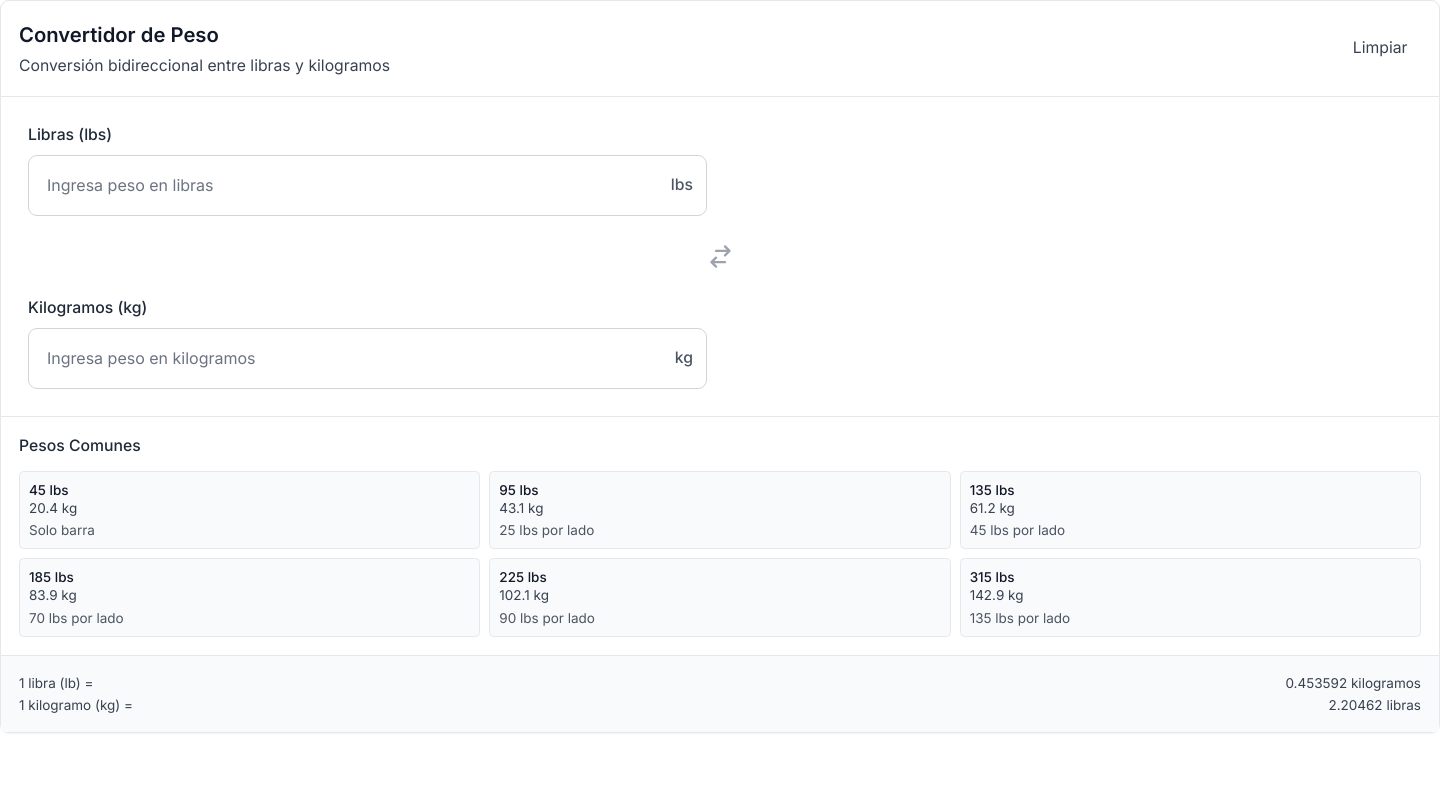
Test: WeightConverter › applies preset weight when preset button is clicked
// Click on "Solo barra" preset (45 lbs)
Click the button "45 lbs 20.4 kg Solo barra": click(62, 530) [19,470,480,549]
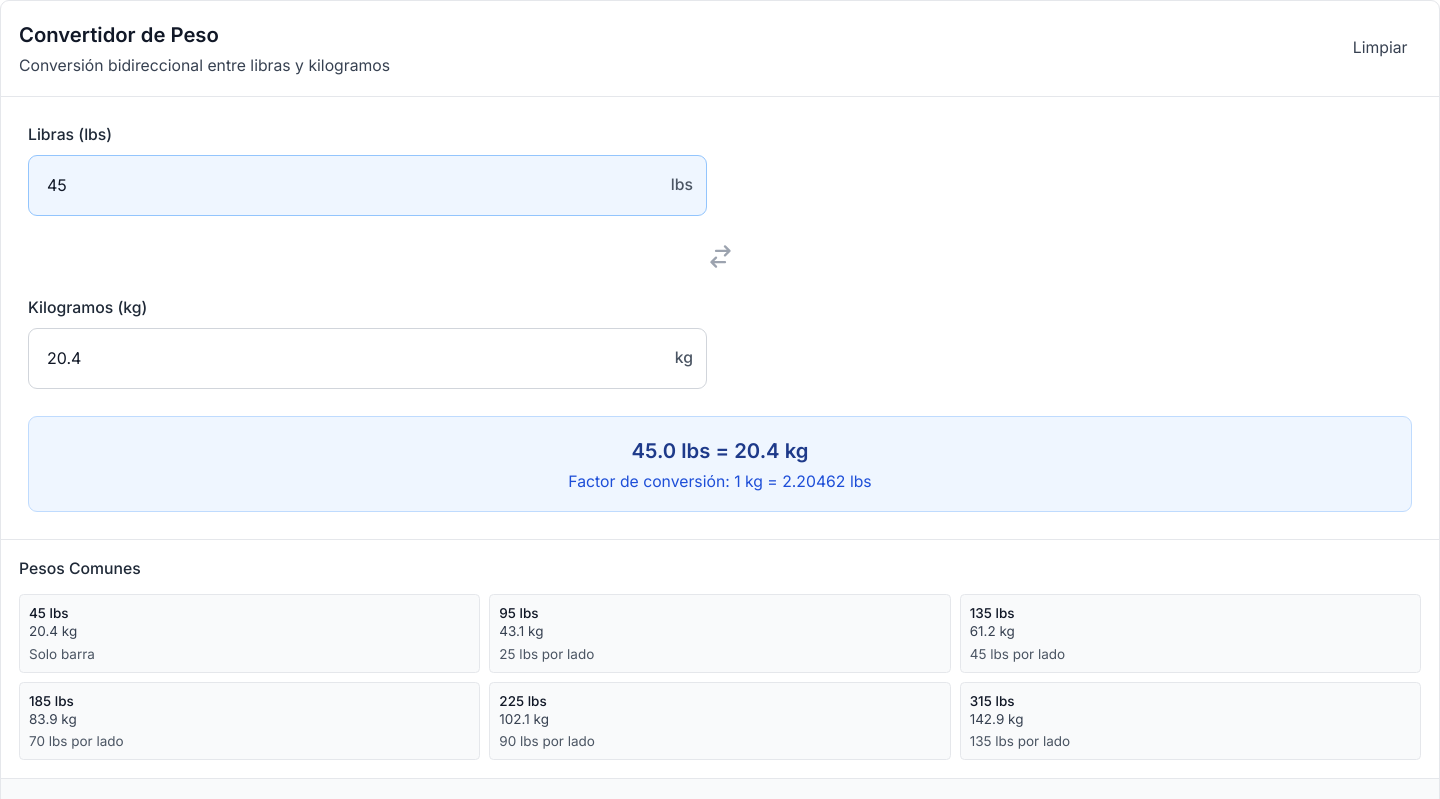
Expected: the number field labelled "Libras (lbs)" holds "45", [28,155,706,216]
Expected: the number field labelled "Kilogramos (kg)" holds "20.4", [28,328,706,388]
